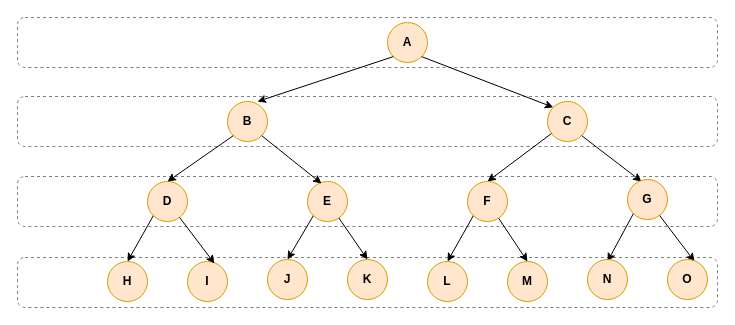
The diagram is 735 pixels wide and 325 high, and some of its shapes have lost their labels. Here are the shapes that lost their labels. From the top down, the box of each, then its label:
(16, 16, 718, 68): Lớp 1
(16, 96, 718, 146): Lớp 2
(16, 176, 718, 226): Lớp 3
(16, 256, 718, 308): Lớp 4
